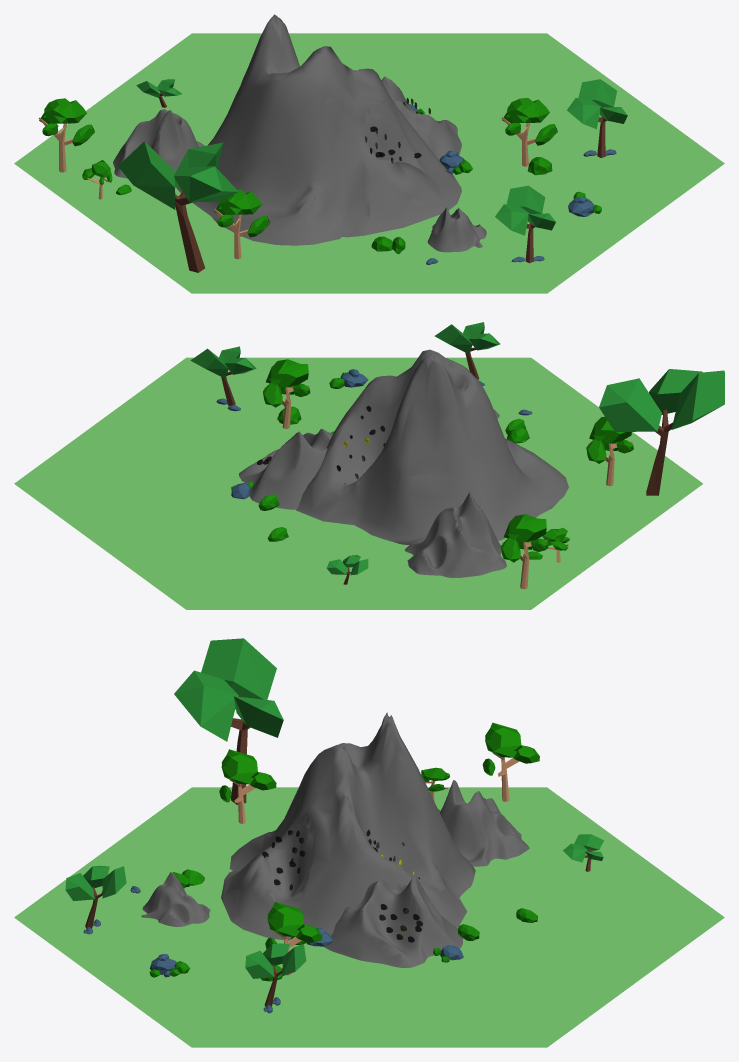
The model's file is Ressource Obsidienne.fbx.
The picture shows the model from 3 angles, top to bottom: view 1: azimuth 30°, elevation 25°; view 2: azimuth 150°, elevation 25°; view 3: azimuth 270°, elevation 25°; orthographic projection. The views are drawn at different scales.
Visible parts, largest first — view 1: Cylinder, Landscape.008, Cube.047, Landscape.001, Cube.062, Cube.018, Landscape.009, Landscape.002, Icokugel.076, Icokugel.077, Icokugel.005, Cube.061 (+3 smaller); view 2: Cylinder, Landscape.008, Cube.047, Landscape.001, Landscape.009, Icokugel.076, Icokugel.077, Icokugel.005, Cube.062, Cube.018, Cube.061, Icokugel.006 (+1 smaller); view 3: Cylinder, Landscape.008, Landscape.009, Cube.047, Landscape.001, Landscape.002, Cube.062, Icokugel.076, Cube.018, Icokugel.005, Icokugel.077, Cube.061 (+1 smaller).
Part boxes in pixels (x1,y1,x2,y2): Cylinder: [14, 33, 724, 293]; Landscape.008: [176, 14, 461, 245]; Cube.047: [118, 141, 238, 272]; Landscape.001: [113, 109, 204, 178]; Cube.062: [567, 79, 627, 157]; Cube.018: [495, 185, 555, 263]; Landscape.009: [381, 76, 461, 159]; Landscape.002: [427, 207, 486, 252]; Icokugel.076: [38, 98, 94, 172]; Icokugel.077: [501, 98, 557, 166]; Icokugel.005: [214, 189, 270, 259]; Cube.061: [136, 79, 182, 107]; Cylinder: [14, 357, 702, 609]; Landscape.008: [296, 349, 568, 545]; Cube.047: [599, 369, 724, 495]; Landscape.001: [404, 492, 506, 577]; Landscape.009: [239, 428, 332, 509]; Icokugel.076: [501, 514, 548, 589]; Icokugel.077: [263, 359, 310, 428]; Icokugel.005: [586, 416, 633, 486]; Cube.062: [190, 346, 256, 411]; Cube.018: [434, 322, 500, 385]; Cube.061: [326, 555, 368, 584]; Icokugel.006: [542, 527, 569, 562]; Cylinder: [14, 787, 724, 1047]; Landscape.008: [221, 712, 475, 940]; Landscape.009: [324, 875, 462, 967]; Cube.047: [174, 638, 283, 804]; Landscape.001: [440, 780, 529, 866]; Landscape.002: [141, 872, 210, 926]; Cube.062: [245, 943, 306, 1013]; Icokugel.076: [482, 722, 539, 801]; Cube.018: [65, 865, 126, 934]; Icokugel.005: [219, 749, 276, 823]; Icokugel.077: [265, 901, 322, 975]; Cube.061: [563, 834, 603, 871].
Bounding box in the file's own units: 1863 × 587 × 2000.
